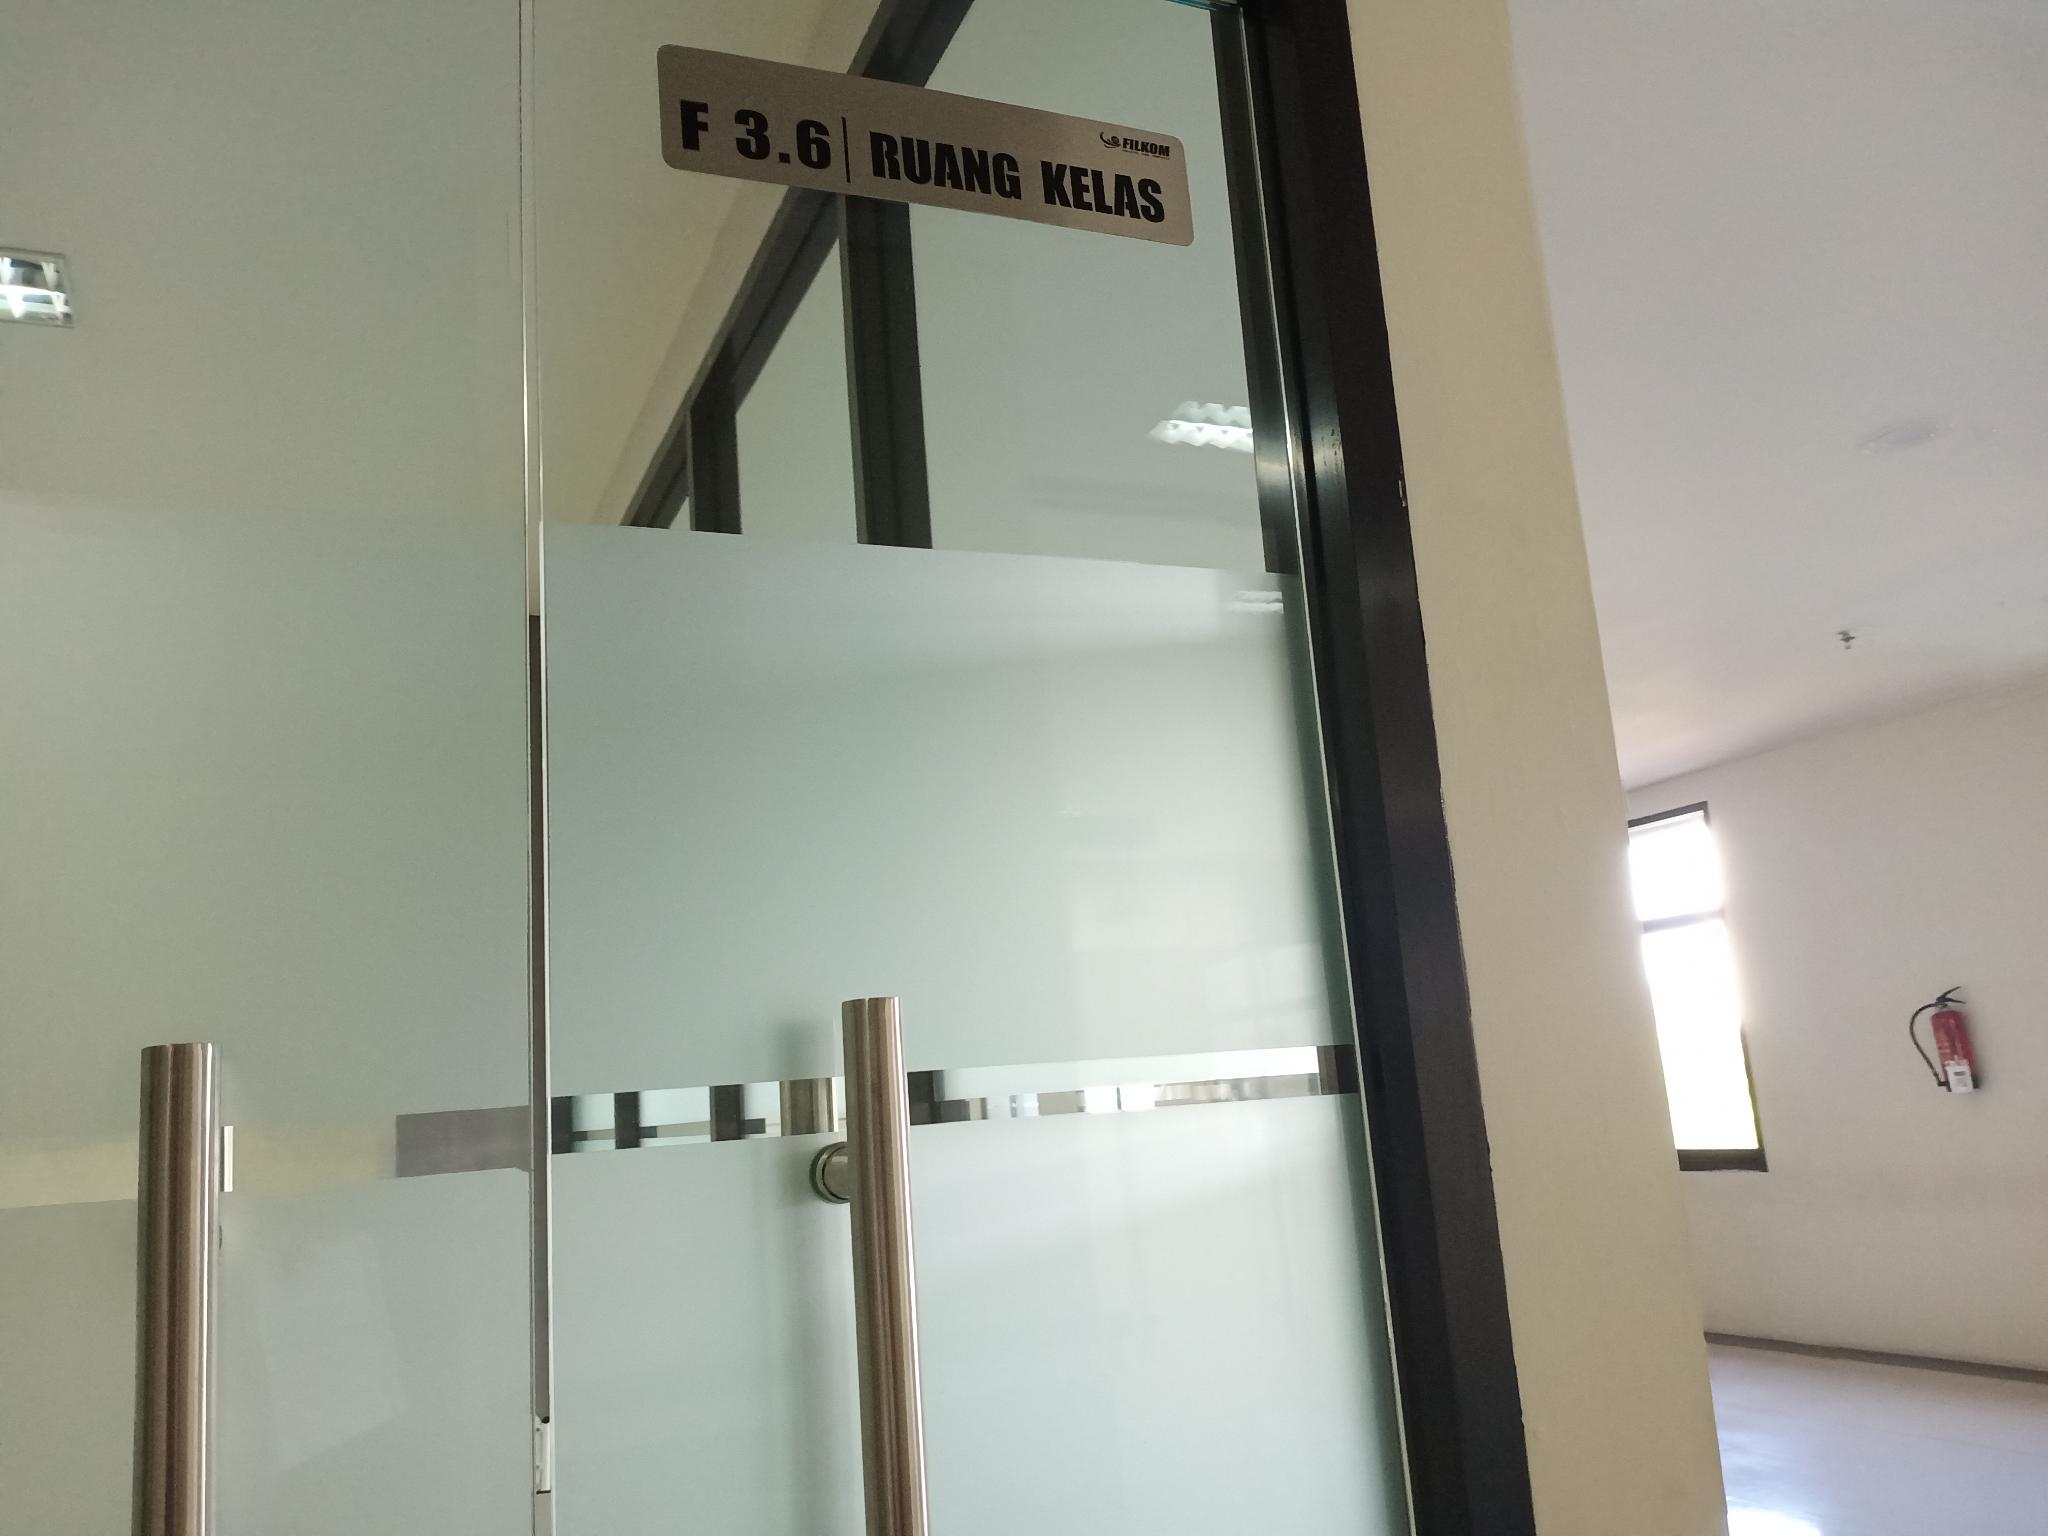plate: (656, 39, 1195, 247)
